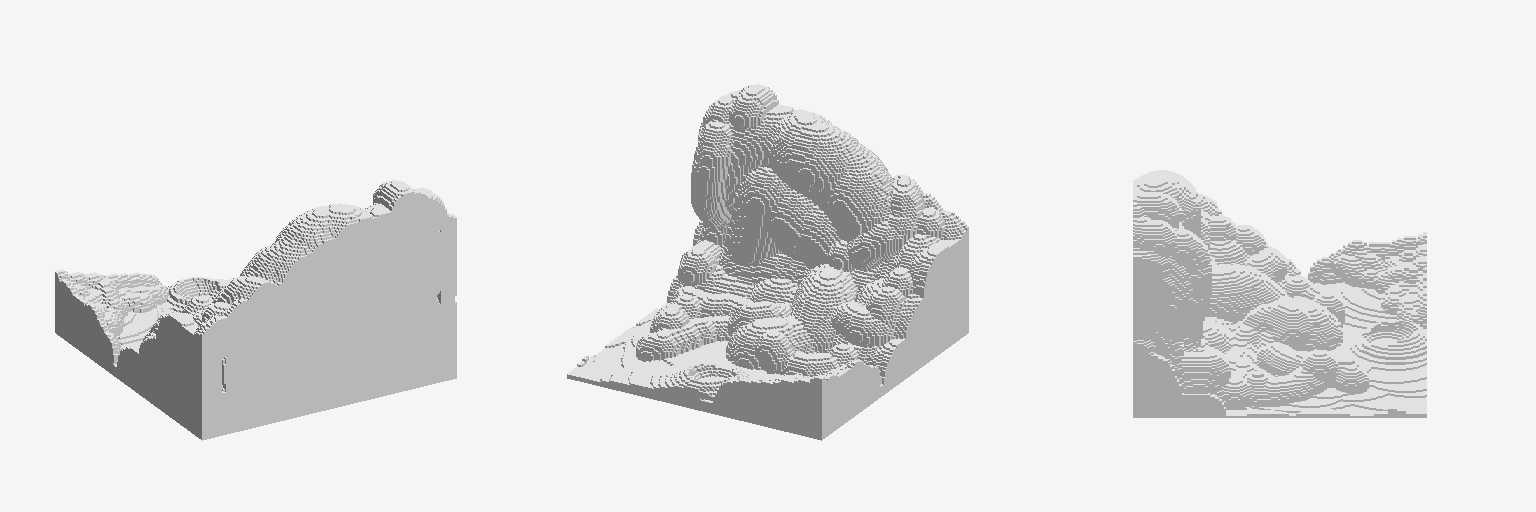
Rendered from Ext_LunarBorder11.obj.
3 views of the same model, side by side, from view 1: azimuth 30°, elevation 25°; view 2: azimuth 150°, elevation 25°; view 3: azimuth 270°, elevation 25° (orthographic).
Size of the model in its own units: 126 by 94 by 126.